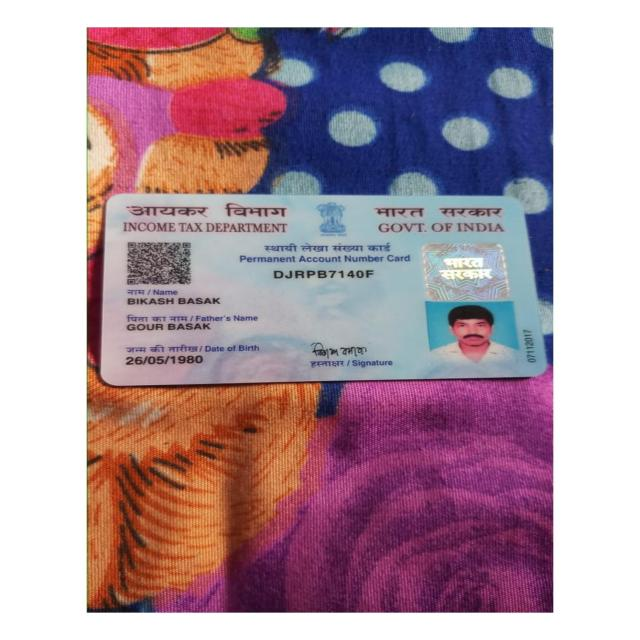pan_card: (98, 196, 547, 383)
